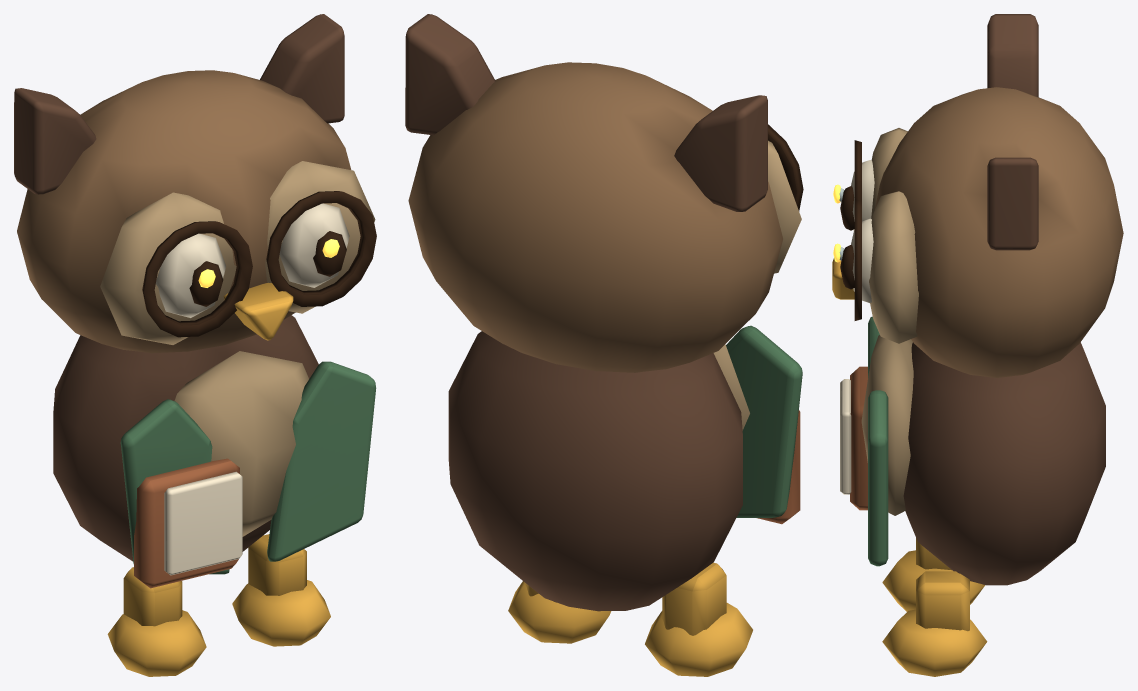
Rendered from cameo_professor-hooten.glb.
3 views of the same model, side by side, from view 1: azimuth 30°, elevation 25°; view 2: azimuth 150°, elevation 25°; view 3: azimuth 270°, elevation 25° (orthographic). The views are drawn at different scales.
Visible parts, largest first — view 1: Owl head, Round owl body; view 2: Owl head, Round owl body; view 3: Owl head, Round owl body.
Boxes of the visible parts, x1=… form: Owl head: x1=14, y1=14, x2=376, y2=353; Round owl body: x1=53, y1=315, x2=376, y2=676; Owl head: x1=405, y1=14, x2=803, y2=372; Round owl body: x1=448, y1=325, x2=802, y2=676; Owl head: x1=832, y1=14, x2=1123, y2=377; Round owl body: x1=840, y1=316, x2=1105, y2=676.
Bounding box in the file's own units: 1.32 × 2.27 × 1.08.
